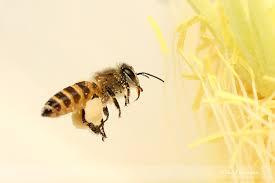Apis-mellifera-scutellata: (38, 52, 169, 146)
